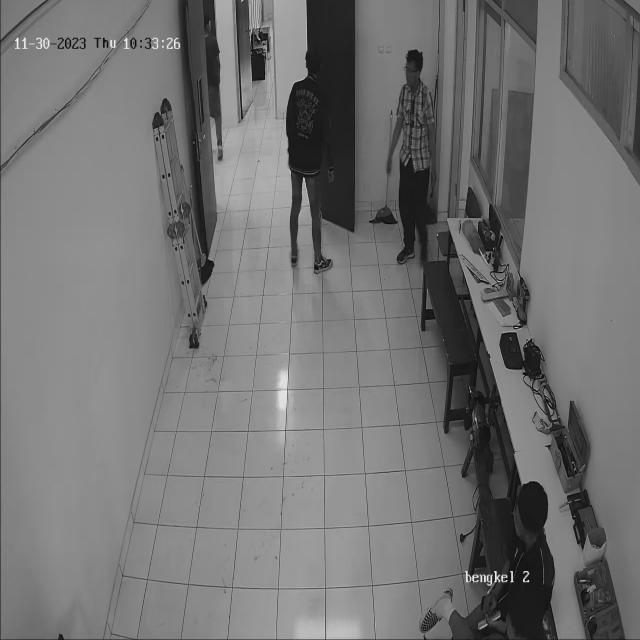person: (270, 35, 352, 312), (389, 39, 439, 276)
